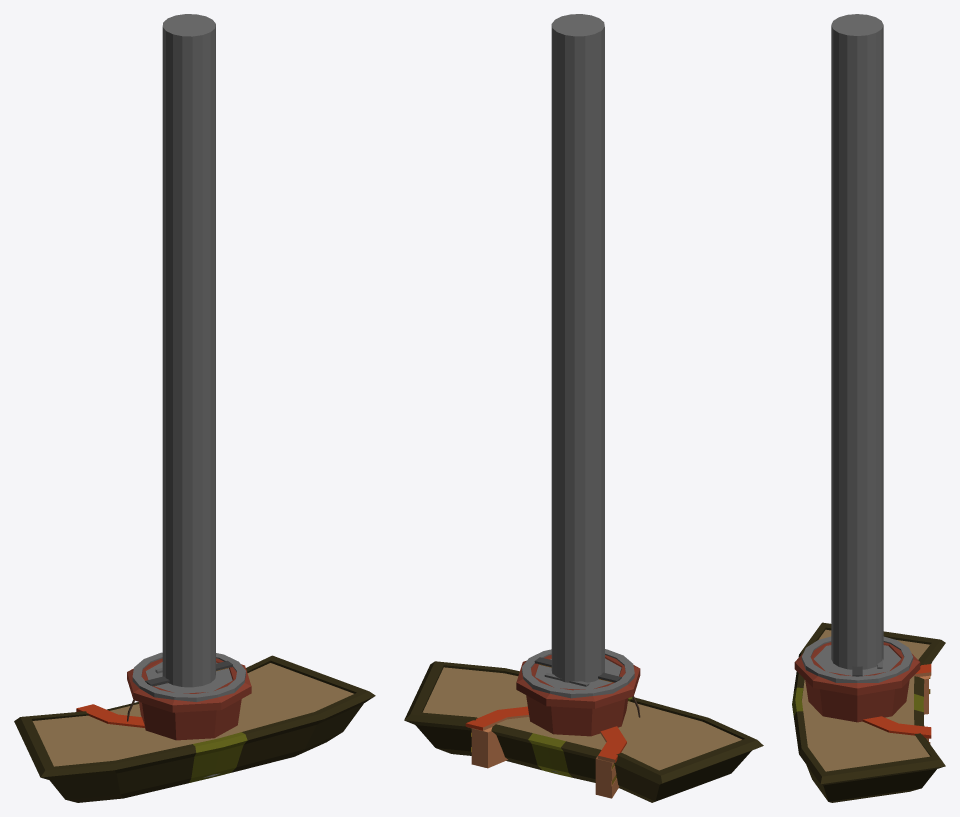
Rendered from Office_Assets.fbx.
3 renders of one model, left to right at view 1: azimuth 30°, elevation 25°; view 2: azimuth 150°, elevation 25°; view 3: azimuth 270°, elevation 25°, orthographic. The views are drawn at different scales.
Parts seen in each view (by area): view 1: Pillar, Mayer Desk, Pot, Stand, Reception Desk; view 2: Pillar, Mayer Desk, Pot, Reception Desk, Stand; view 3: Pillar, Mayer Desk, Pot, Stand, Reception Desk.
Part boxes in pixels (<box>): Pillar: <box>162,14,219,777</box>; Mayer Desk: <box>14,655,375,802</box>; Pot: <box>127,658,251,740</box>; Stand: <box>132,652,245,702</box>; Reception Desk: <box>76,704,144,727</box>; Pillar: <box>551,14,604,772</box>; Mayer Desk: <box>404,661,763,802</box>; Pot: <box>516,655,640,736</box>; Reception Desk: <box>465,706,626,798</box>; Stand: <box>522,649,634,698</box>; Pillar: <box>831,14,883,669</box>; Mayer Desk: <box>792,622,945,802</box>; Pot: <box>794,642,920,722</box>; Stand: <box>801,636,913,682</box>; Reception Desk: <box>862,664,931,743</box>.
Size of the model in its own units: 814 by 1710 by 332.
